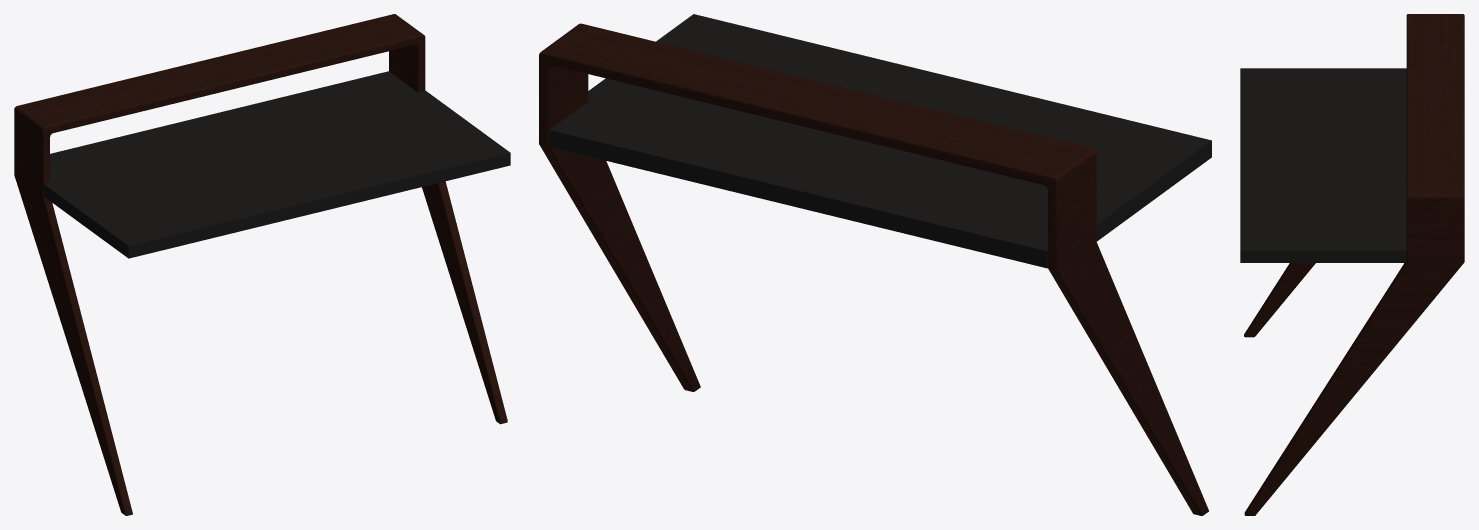
3 views of the same model, side by side, from view 1: azimuth 30°, elevation 25°; view 2: azimuth 150°, elevation 25°; view 3: azimuth 270°, elevation 25° (orthographic). The views are drawn at different scales.
Visible parts, largest first — view 1: C-skp11F2; view 2: C-skp11F2; view 3: C-skp11F2.
Boxes of the visible parts, left/top/right/bottom form: C-skp11F2: left=14, top=14, right=510, bottom=515; C-skp11F2: left=539, top=14, right=1211, bottom=515; C-skp11F2: left=1240, top=14, right=1464, bottom=515.
Size of the model in its own units: 1.1 by 0.9 by 0.57.
Materials: 2 (1 with a texture image).
